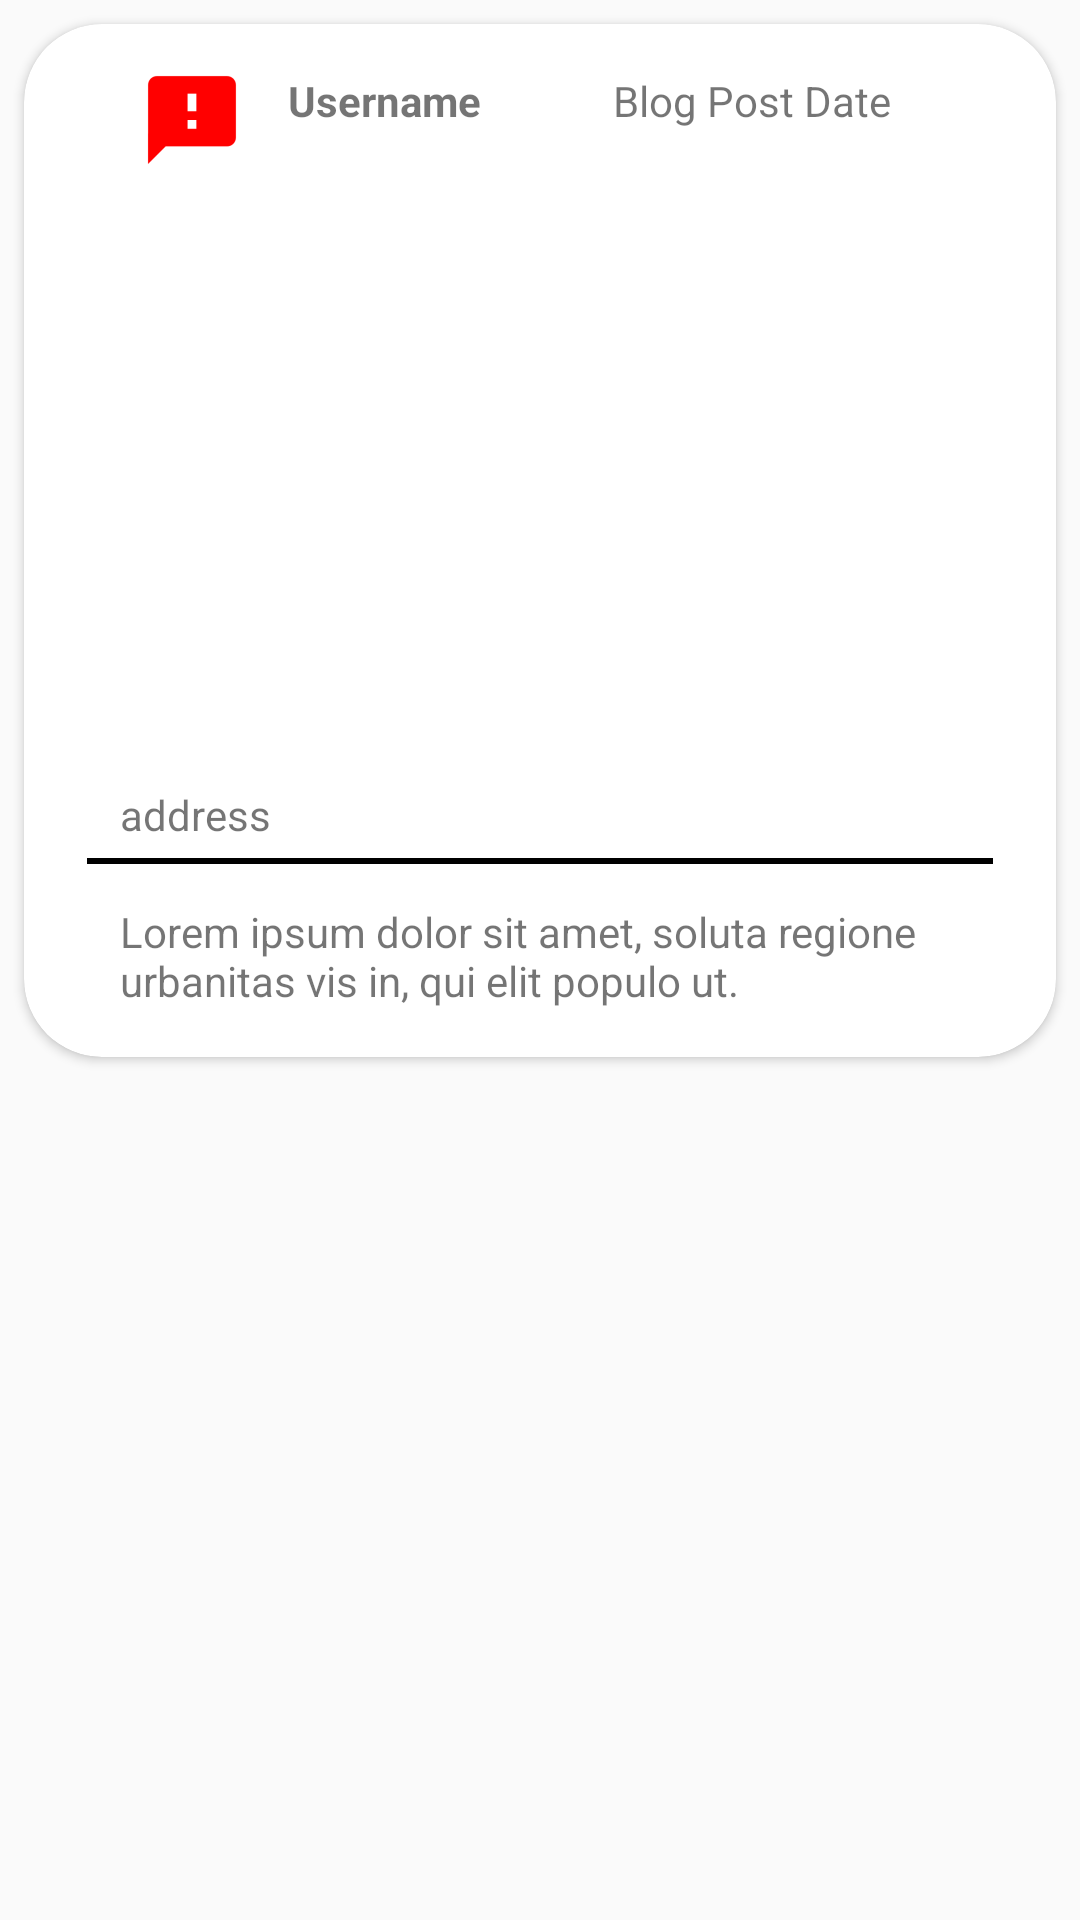

Where icons sit on this 1080w x 1920h app screen, as (x1, y1, x2, y2):
marker danger: (148, 76, 236, 164)
